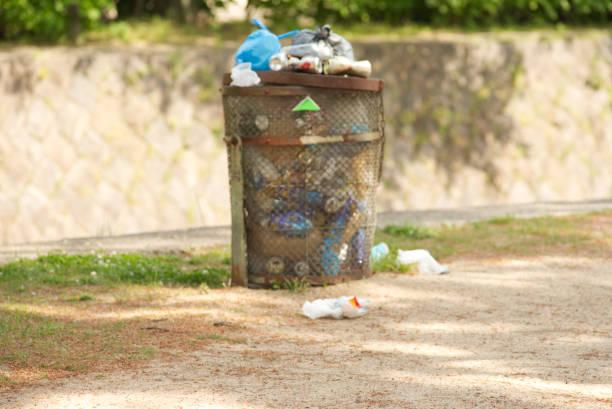trash: (213, 14, 390, 81), (388, 239, 456, 290), (304, 289, 376, 320), (370, 229, 395, 274)
trash_can_overflow: (171, 9, 491, 335)
